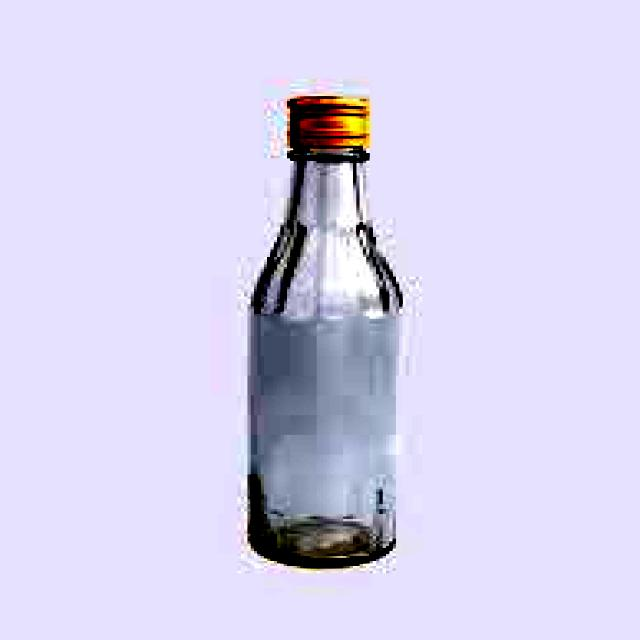Glass: (238, 88, 411, 572)
